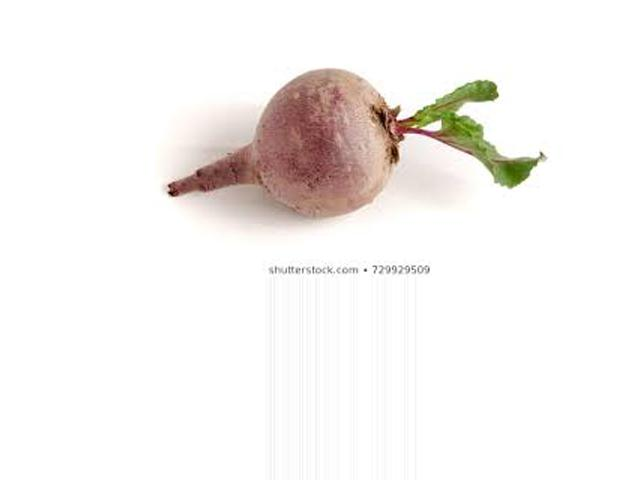beet: (170, 69, 546, 216)
